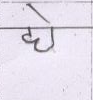e_matra: (27, 4, 54, 25)
